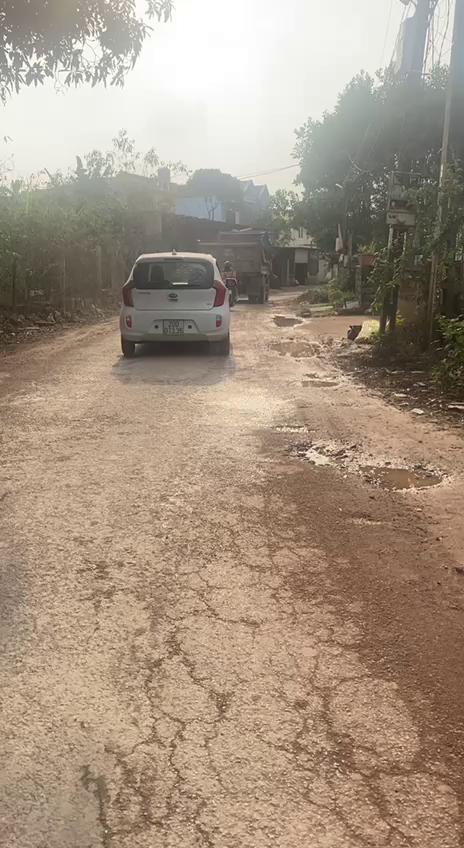pothole: (288, 430, 449, 498), (268, 336, 323, 360), (288, 374, 338, 390), (269, 314, 306, 330)
